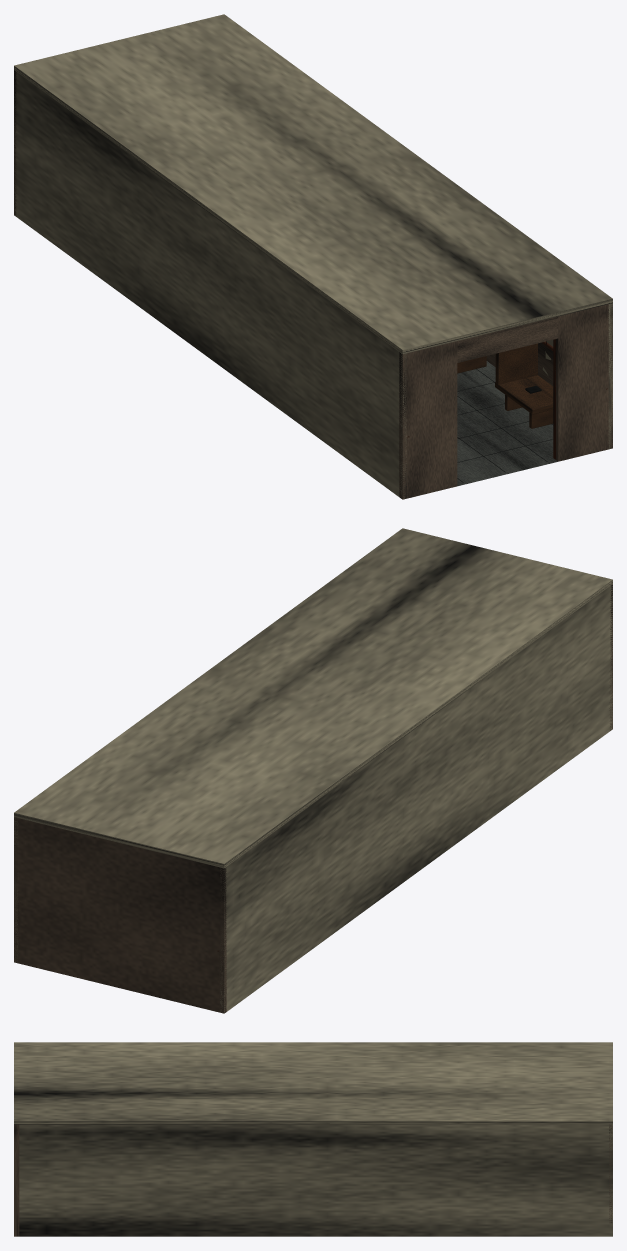
Rendered from chapel.glb.
3 renders of one model, top to bottom at view 1: azimuth 30°, elevation 25°; view 2: azimuth 150°, elevation 25°; view 3: azimuth 270°, elevation 25°, orthographic. The views are drawn at different scales.
Visible parts, largest first — view 1: static-plaster, static-paint, static-stone, static-wood; view 2: static-plaster, static-paint; view 3: static-plaster, static-paint.
Part boxes in pixels (x1,y1,x2,y2): static-plaster: [14, 14, 612, 499]; static-paint: [14, 70, 612, 499]; static-stone: [457, 361, 557, 486]; static-wood: [457, 343, 553, 428]; static-plaster: [14, 528, 612, 1013]; static-paint: [14, 584, 612, 1013]; static-plaster: [14, 1042, 612, 1236]; static-paint: [14, 1124, 612, 1236].
Bounding box in the file's own units: 5 × 3.4 × 16.
14 materials, 10 textured.
